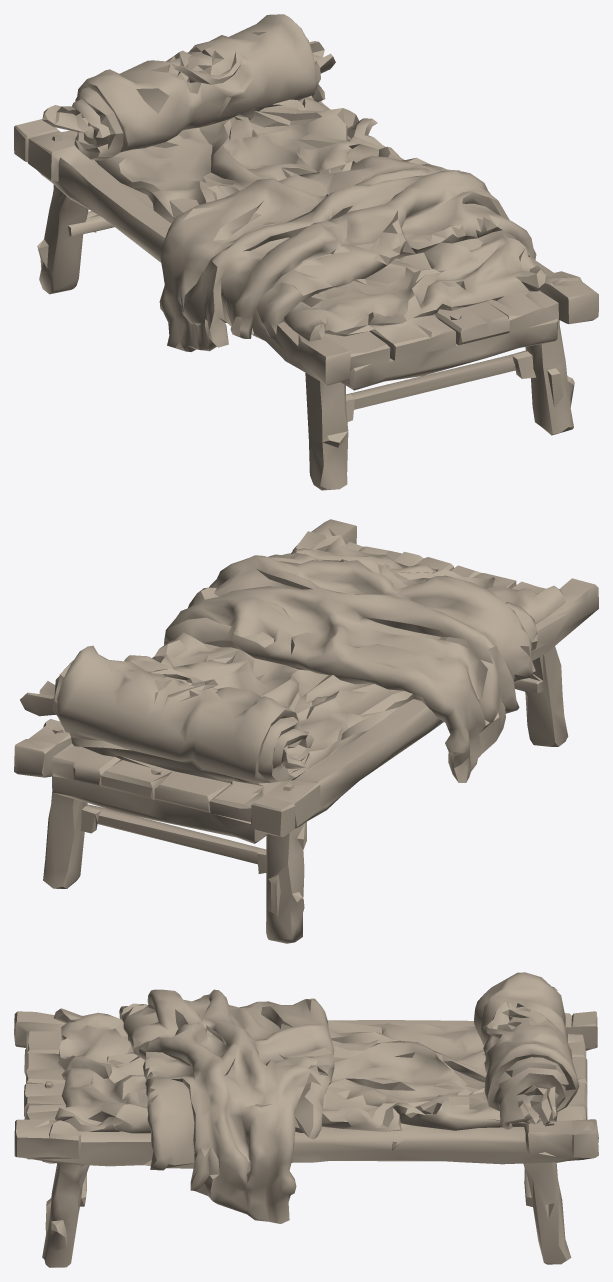
File: kit_cot.glb
3 views of the same model, one above another, from view 1: azimuth 30°, elevation 25°; view 2: azimuth 150°, elevation 25°; view 3: azimuth 270°, elevation 25° (orthographic). The views are drawn at different scales.
Parts seen in each view (by area): view 1: cot; view 2: cot; view 3: cot.
Part boxes in pixels (x1,y1,x2,y2): cot: [14, 14, 598, 490]; cot: [14, 519, 598, 943]; cot: [14, 972, 598, 1267].
Size of the model in its own units: 1.14 by 0.8023 by 2.
